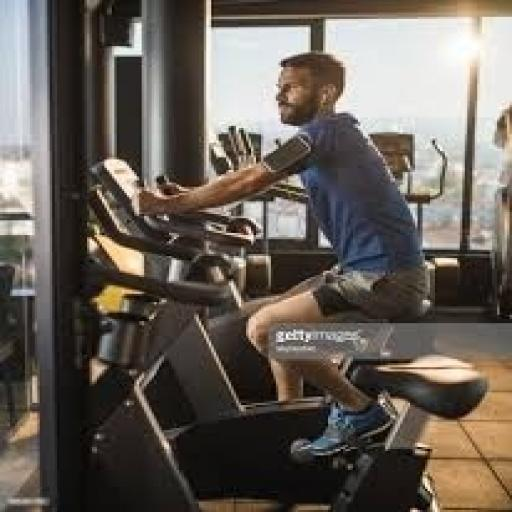listening_to_music: (129, 48, 435, 464)
